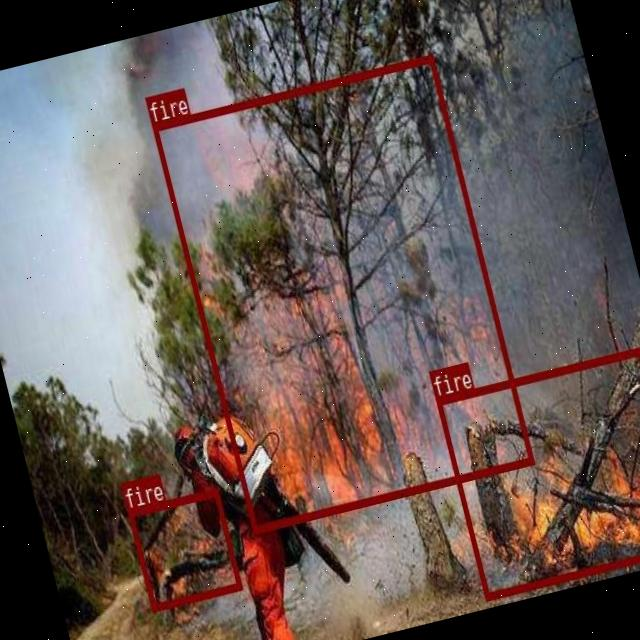fire: (151, 53, 534, 533), (435, 345, 640, 598), (126, 486, 242, 610)
